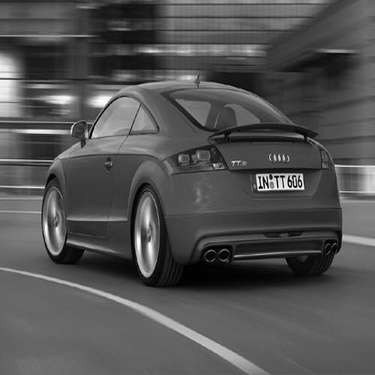car: (38, 70, 345, 289)
